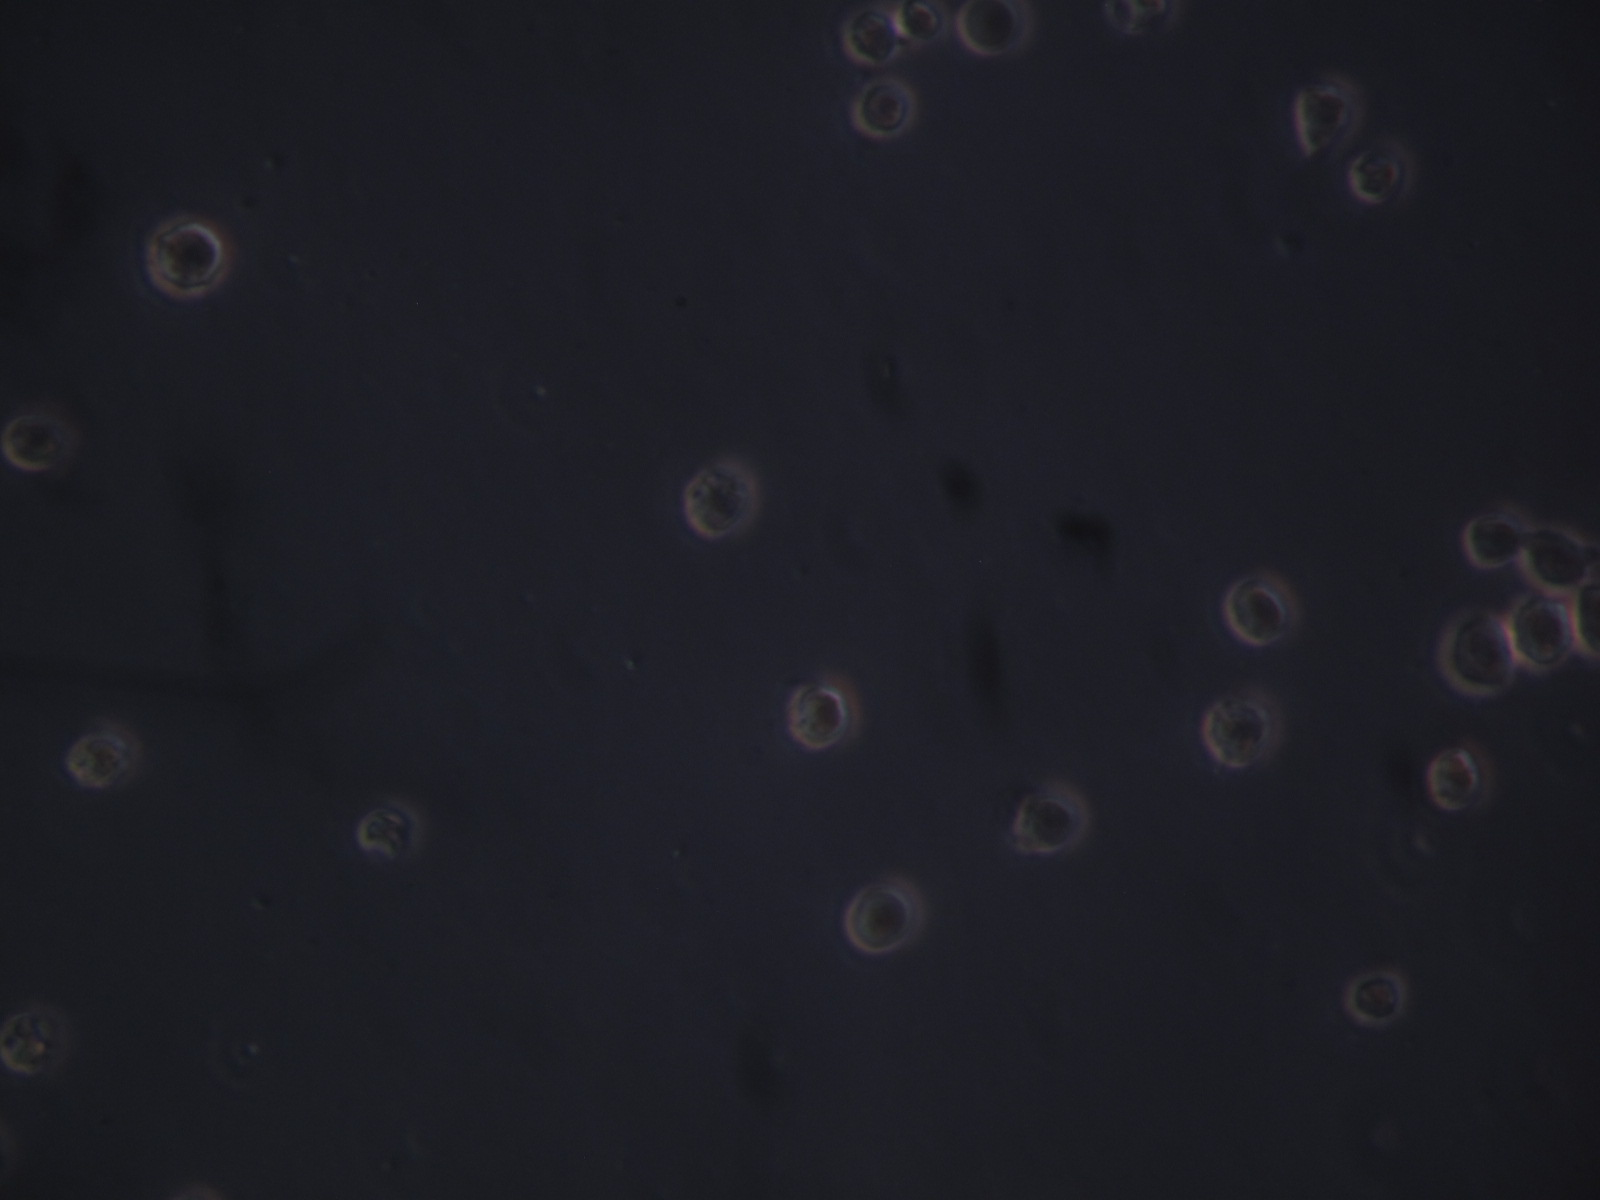hemo: (1441, 608, 1518, 703), (145, 216, 224, 297), (791, 668, 863, 755), (684, 461, 760, 539), (1204, 692, 1283, 768), (843, 880, 926, 950), (1014, 779, 1091, 851), (1225, 576, 1301, 645), (1524, 523, 1592, 595), (68, 722, 141, 789), (1512, 594, 1574, 671), (1285, 81, 1349, 154), (956, 1, 1033, 57), (359, 803, 423, 863), (854, 79, 918, 139), (1352, 147, 1412, 207), (1429, 747, 1483, 813), (3, 416, 63, 474), (1466, 513, 1528, 567), (1346, 971, 1407, 1025), (843, 6, 898, 66), (1576, 579, 1600, 664), (897, 1, 946, 42)
